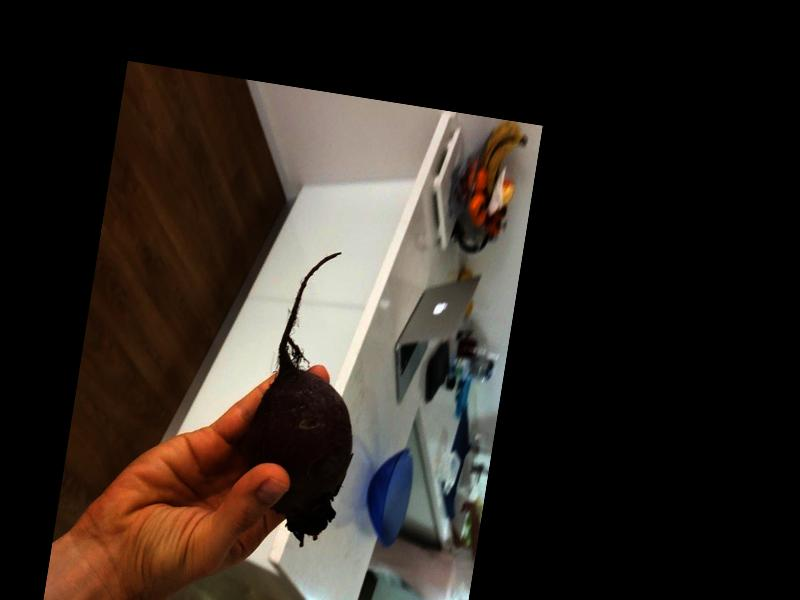Beet: (234, 242, 381, 549)
